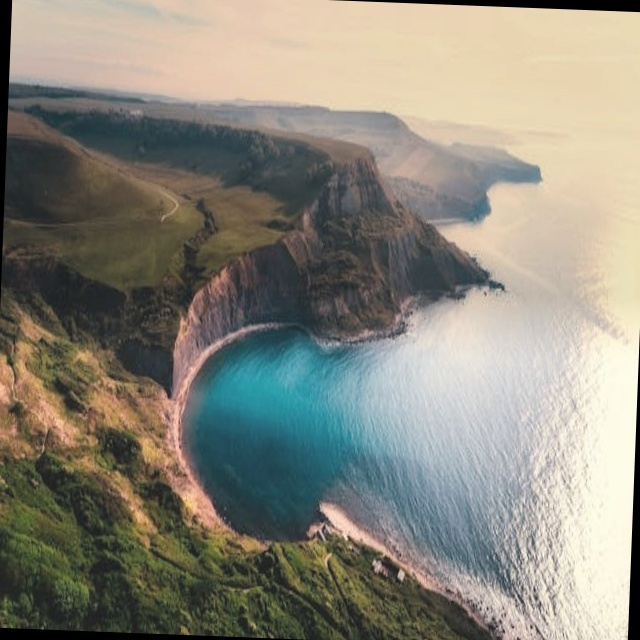clean_water: (13, 13, 627, 627)
foam_scum: (366, 183, 640, 640), (10, 0, 214, 93)
turbid_water: (0, 97, 600, 640)
